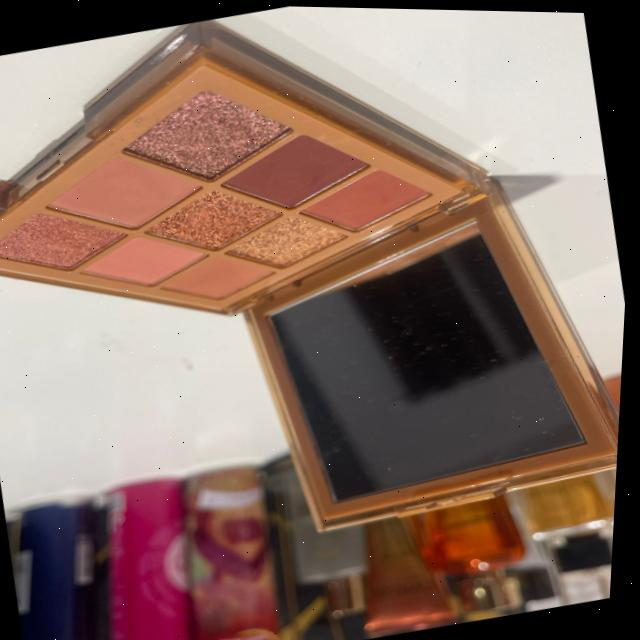highlighter: (0, 0, 529, 378)
